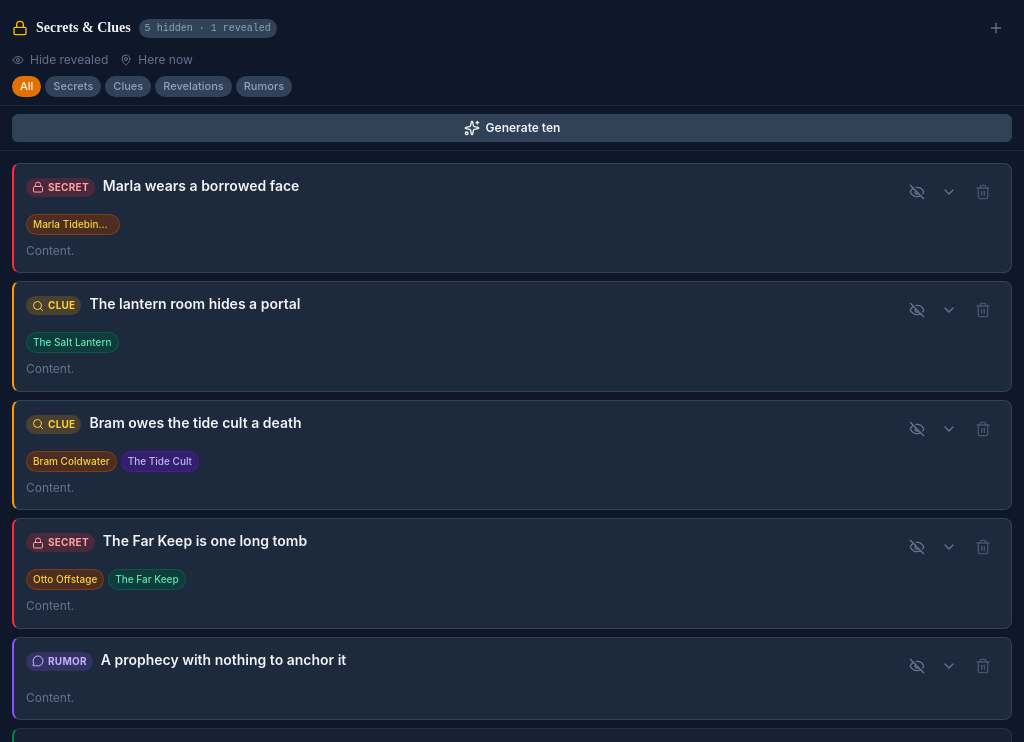
Test: SecretsTracker — the here-now filter composes with the existing filters › ANDs with a category tab
Step 1. Click the button "Here now" → click(156, 60), box [120, 52, 193, 68]
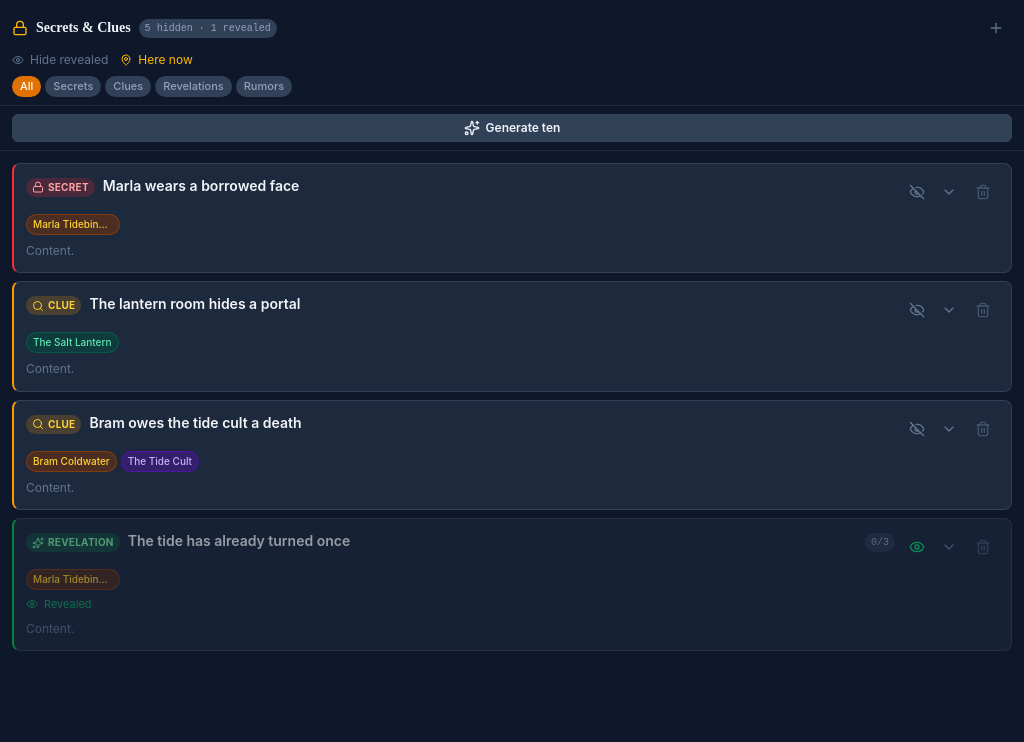
Step 2. Click the button "Clues" → click(128, 86), box [105, 76, 151, 96]
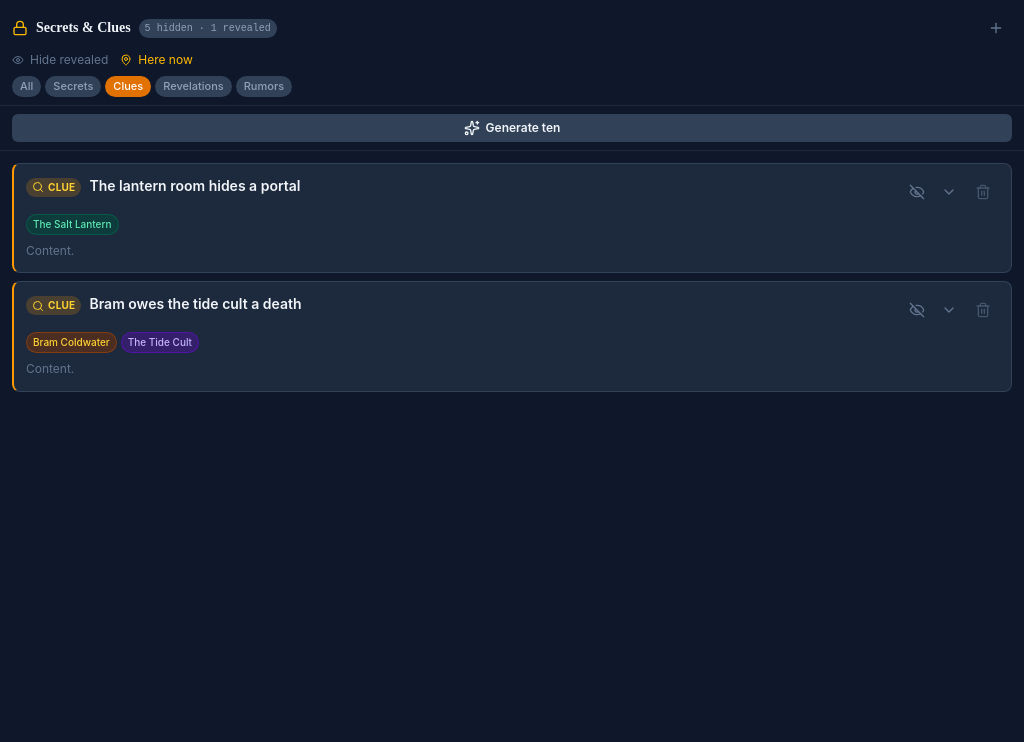
Expected: the button "The lantern room hides a portal" is shown, [90, 176, 895, 196]
Now the button "Marla wears a borrowed face" is gone
Now the button "The tide has already turned once" is gone
